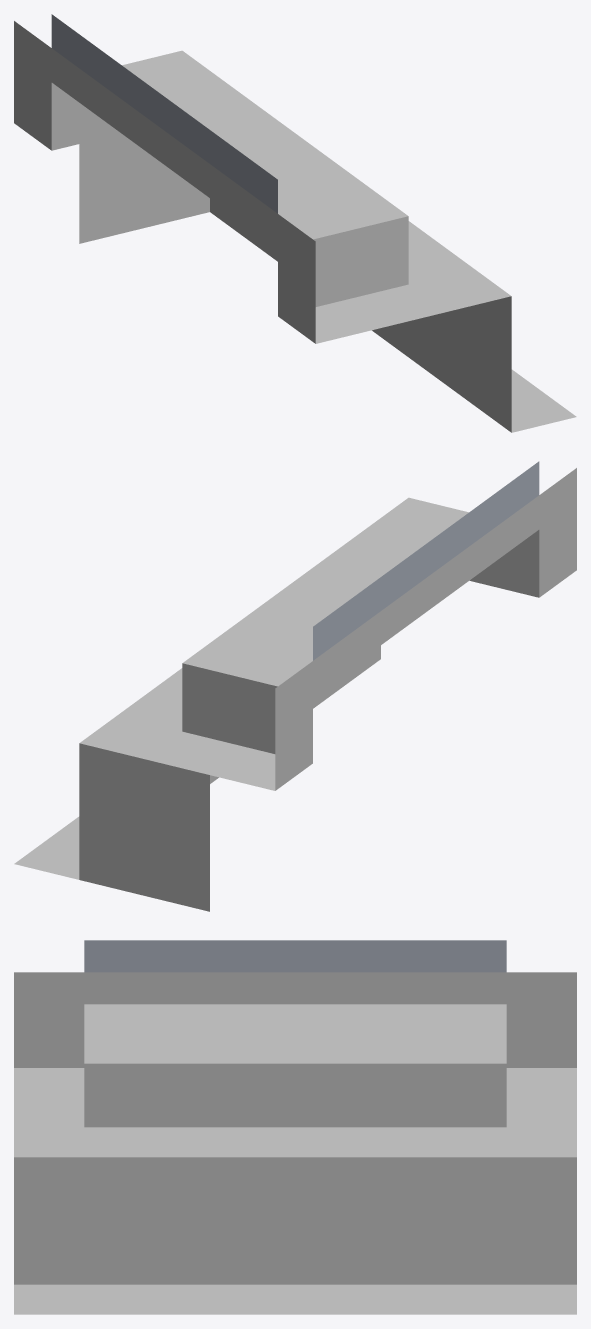
Rendered from cell_25.obj.
The picture shows the model from 3 angles, top to bottom: view 1: azimuth 30°, elevation 25°; view 2: azimuth 150°, elevation 25°; view 3: azimuth 270°, elevation 25°; orthographic projection. The views are drawn at different scales.
Size of the model in its own units: 0.5 by 0.5 by 1.
